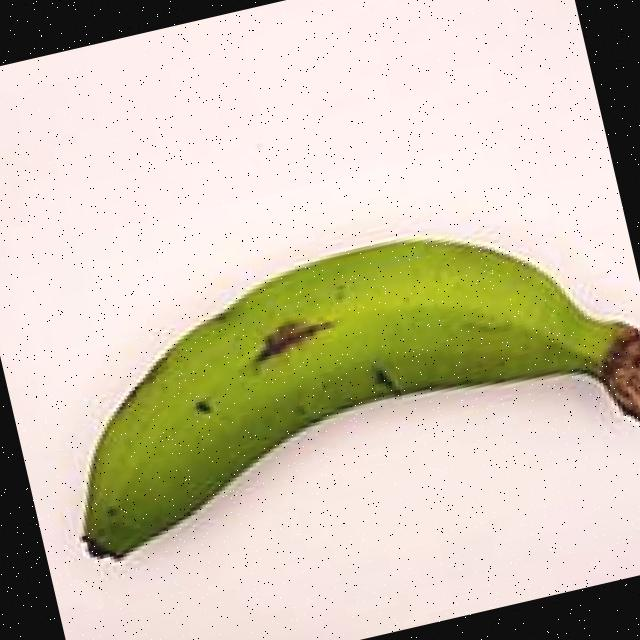Raw: (11, 136, 640, 627)
